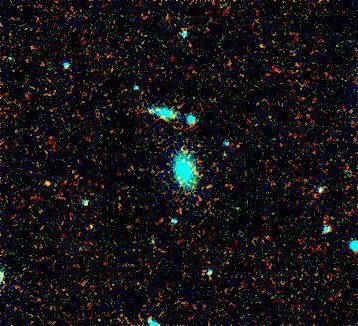star: (33, 169, 63, 199)
